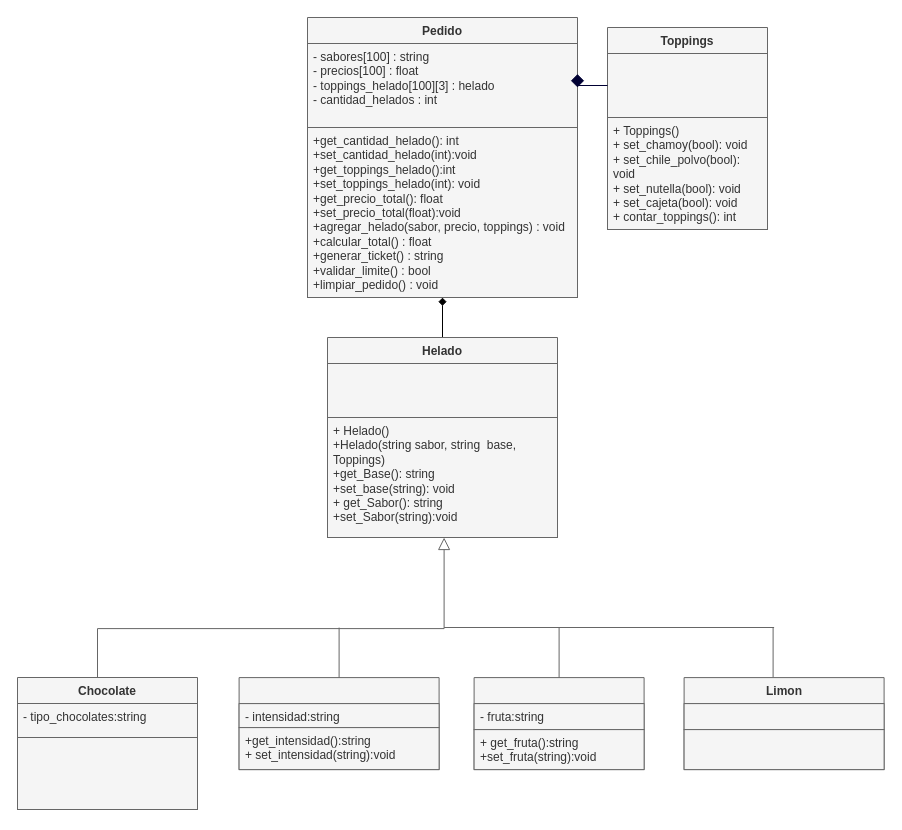
The diagram is 902 pixels wide and 830 high, and some of its shapes have lost their labels. The box of each missing label's shape, as (x1, y1, x2, y2) in pixels:
# sabor: string #precio: int #base: string: (326, 362, 558, 418)
+ get_ralladura():string + set_ralladura(string):void: (683, 729, 884, 770)
+ get_tipo_chocolate():string +set_tipo_chocolate(string):void: (16, 736, 198, 810)
- chamoy:bool -chile_polvo:bool -nutella:bool -cajeta:bool: (606, 52, 768, 118)
- ralladura:string: (683, 703, 884, 730)
Café: (238, 677, 439, 770)
Frutos rojos: (473, 677, 644, 770)
